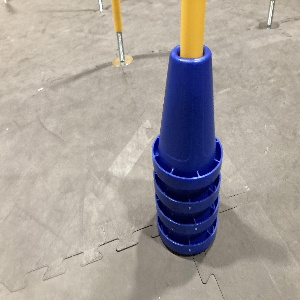Blue_4: (148, 38, 226, 260)
